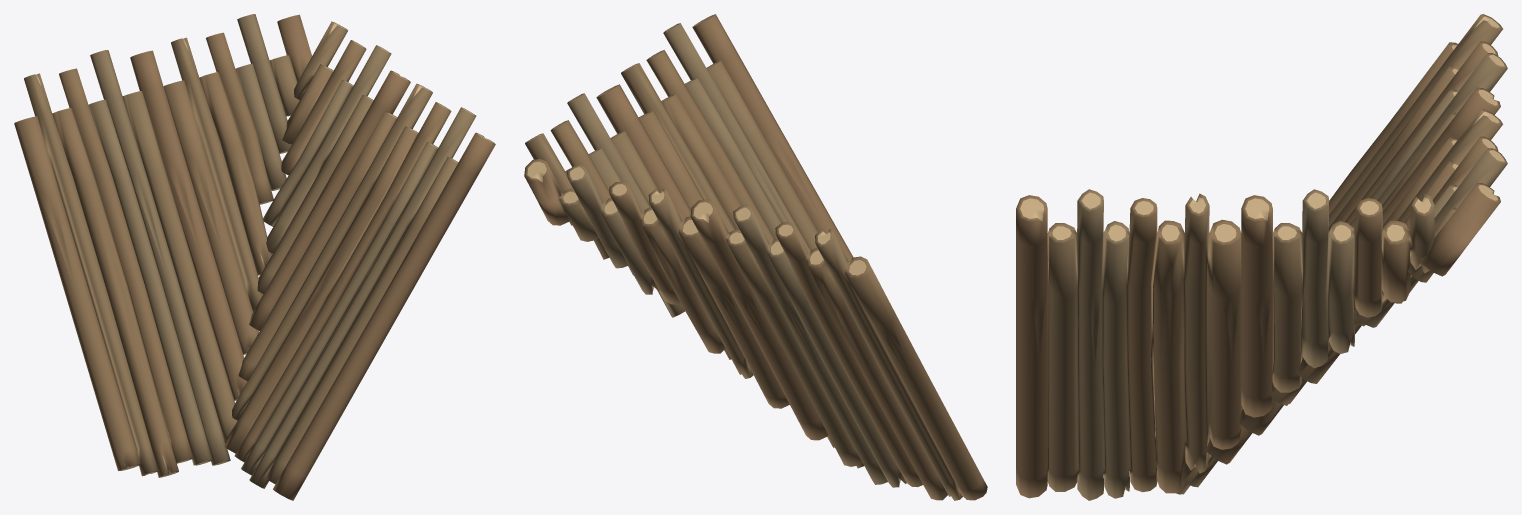
Rendered from rpgpp_ag_roof_01_6x5x3_corner_01.fbx.
3 renders of one model, left to right at view 1: azimuth 30°, elevation 25°; view 2: azimuth 150°, elevation 25°; view 3: azimuth 270°, elevation 25°, orthographic. The views are drawn at different scales.
Visible parts, largest first — view 1: rpgpp_ag_roof_01_6x5x3_corner_01; view 2: rpgpp_ag_roof_01_6x5x3_corner_01; view 3: rpgpp_ag_roof_01_6x5x3_corner_01.
Part boxes in pixels (box(x1,y1,x2,y2)): rpgpp_ag_roof_01_6x5x3_corner_01: box(14, 14, 495, 500); rpgpp_ag_roof_01_6x5x3_corner_01: box(524, 14, 987, 500); rpgpp_ag_roof_01_6x5x3_corner_01: box(1016, 14, 1507, 500).
Bounding box in the file's own units: 6.55 × 6.46 × 6.55.
